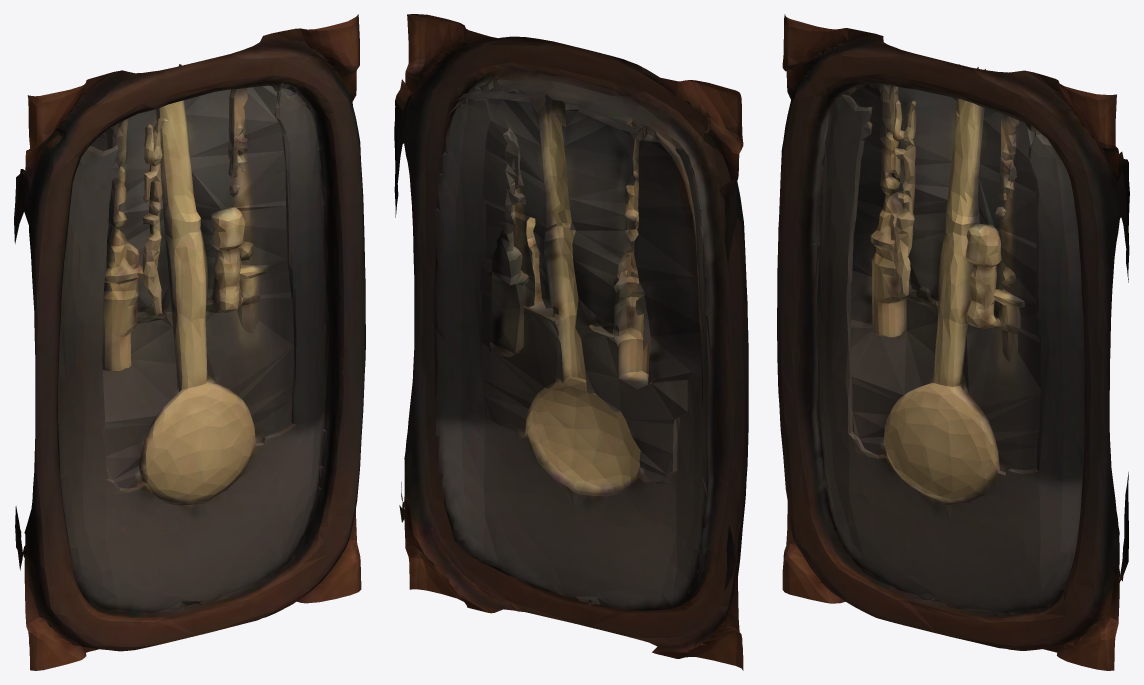
File: door_1.glb
3 views of the same model, side by side, from view 1: azimuth 30°, elevation 25°; view 2: azimuth 150°, elevation 25°; view 3: azimuth 330°, elevation 25° (orthographic).
Visible parts, largest first — view 1: source_surface_0; view 2: source_surface_0; view 3: source_surface_0.
Part boxes in pixels (x1=…): source_surface_0: x1=14, y1=14, x2=365, y2=670; source_surface_0: x1=394, y1=14, x2=748, y2=670; source_surface_0: x1=777, y1=14, x2=1129, y2=670.
Size of the model in its own units: 0.2173 by 0.3594 by 0.0476.
Materials: 1 (1 with a texture image).
